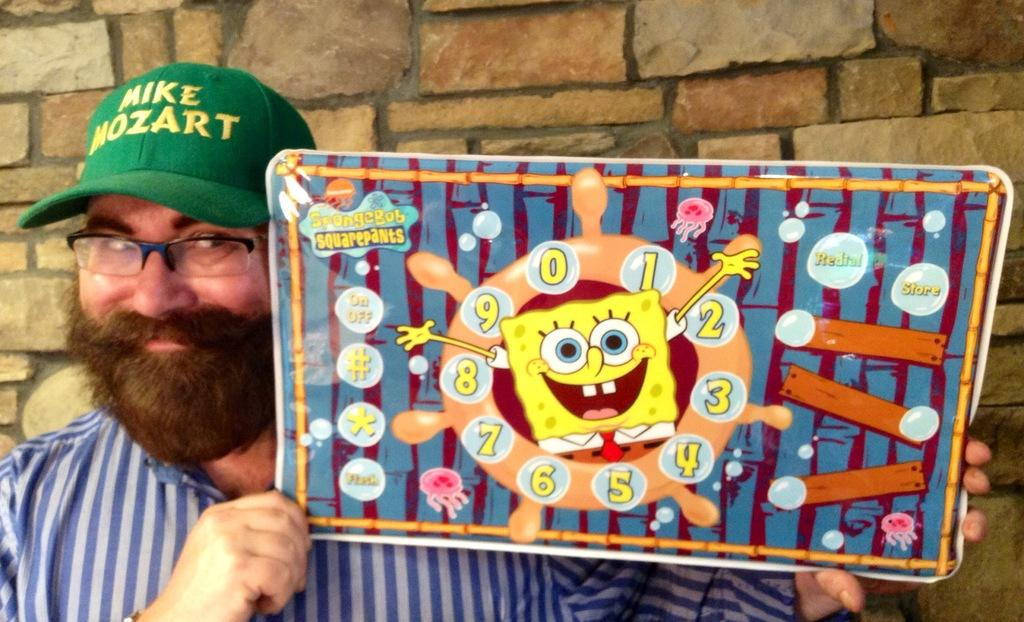Hat: (17, 58, 317, 232)
